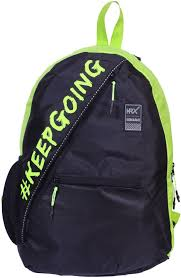backpack: (1, 0, 180, 276)
